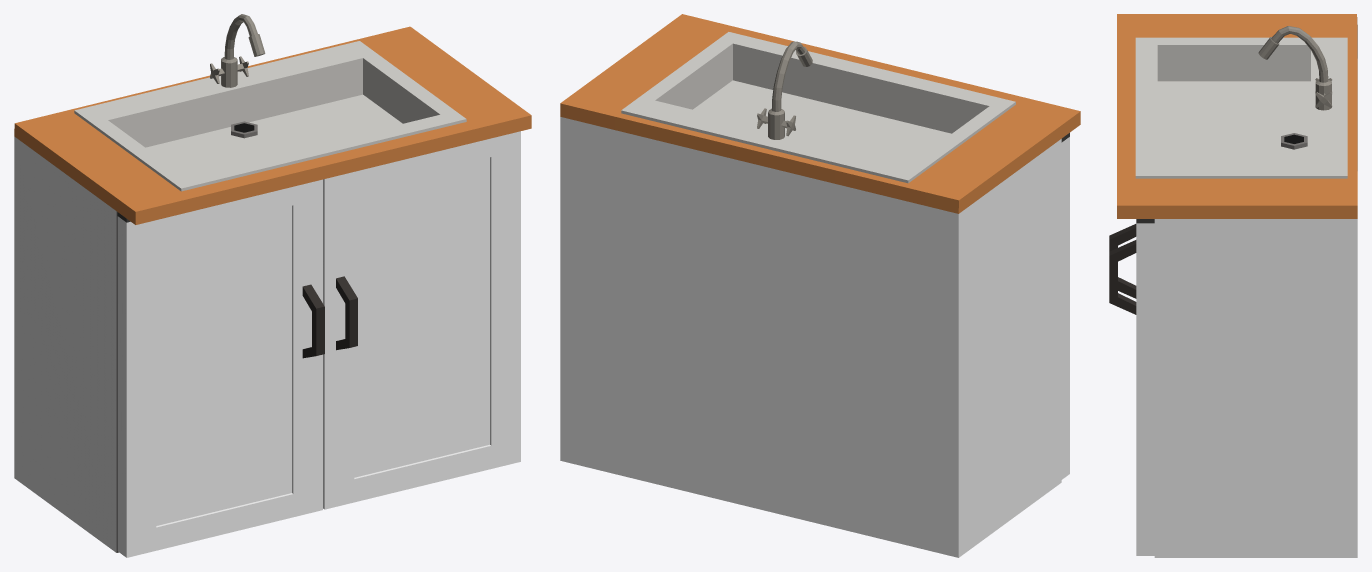
The model's file is Kitchen_Cabinet_5A.fbx.
The picture shows the model from 3 angles, left to right: view 1: azimuth 30°, elevation 25°; view 2: azimuth 150°, elevation 25°; view 3: azimuth 270°, elevation 25°; orthographic projection.
Visible parts, largest first — view 1: polySurface2172; view 2: polySurface2172; view 3: polySurface2172.
Boxes of the visible parts, x1=… form: polySurface2172: x1=14, y1=14, x2=531, y2=557; polySurface2172: x1=560, y1=14, x2=1080, y2=557; polySurface2172: x1=1109, y1=14, x2=1357, y2=557.
Bounding box in the file's own units: 1.56 × 1.65 × 0.8527.
Materials: 1 (1 with a texture image).
